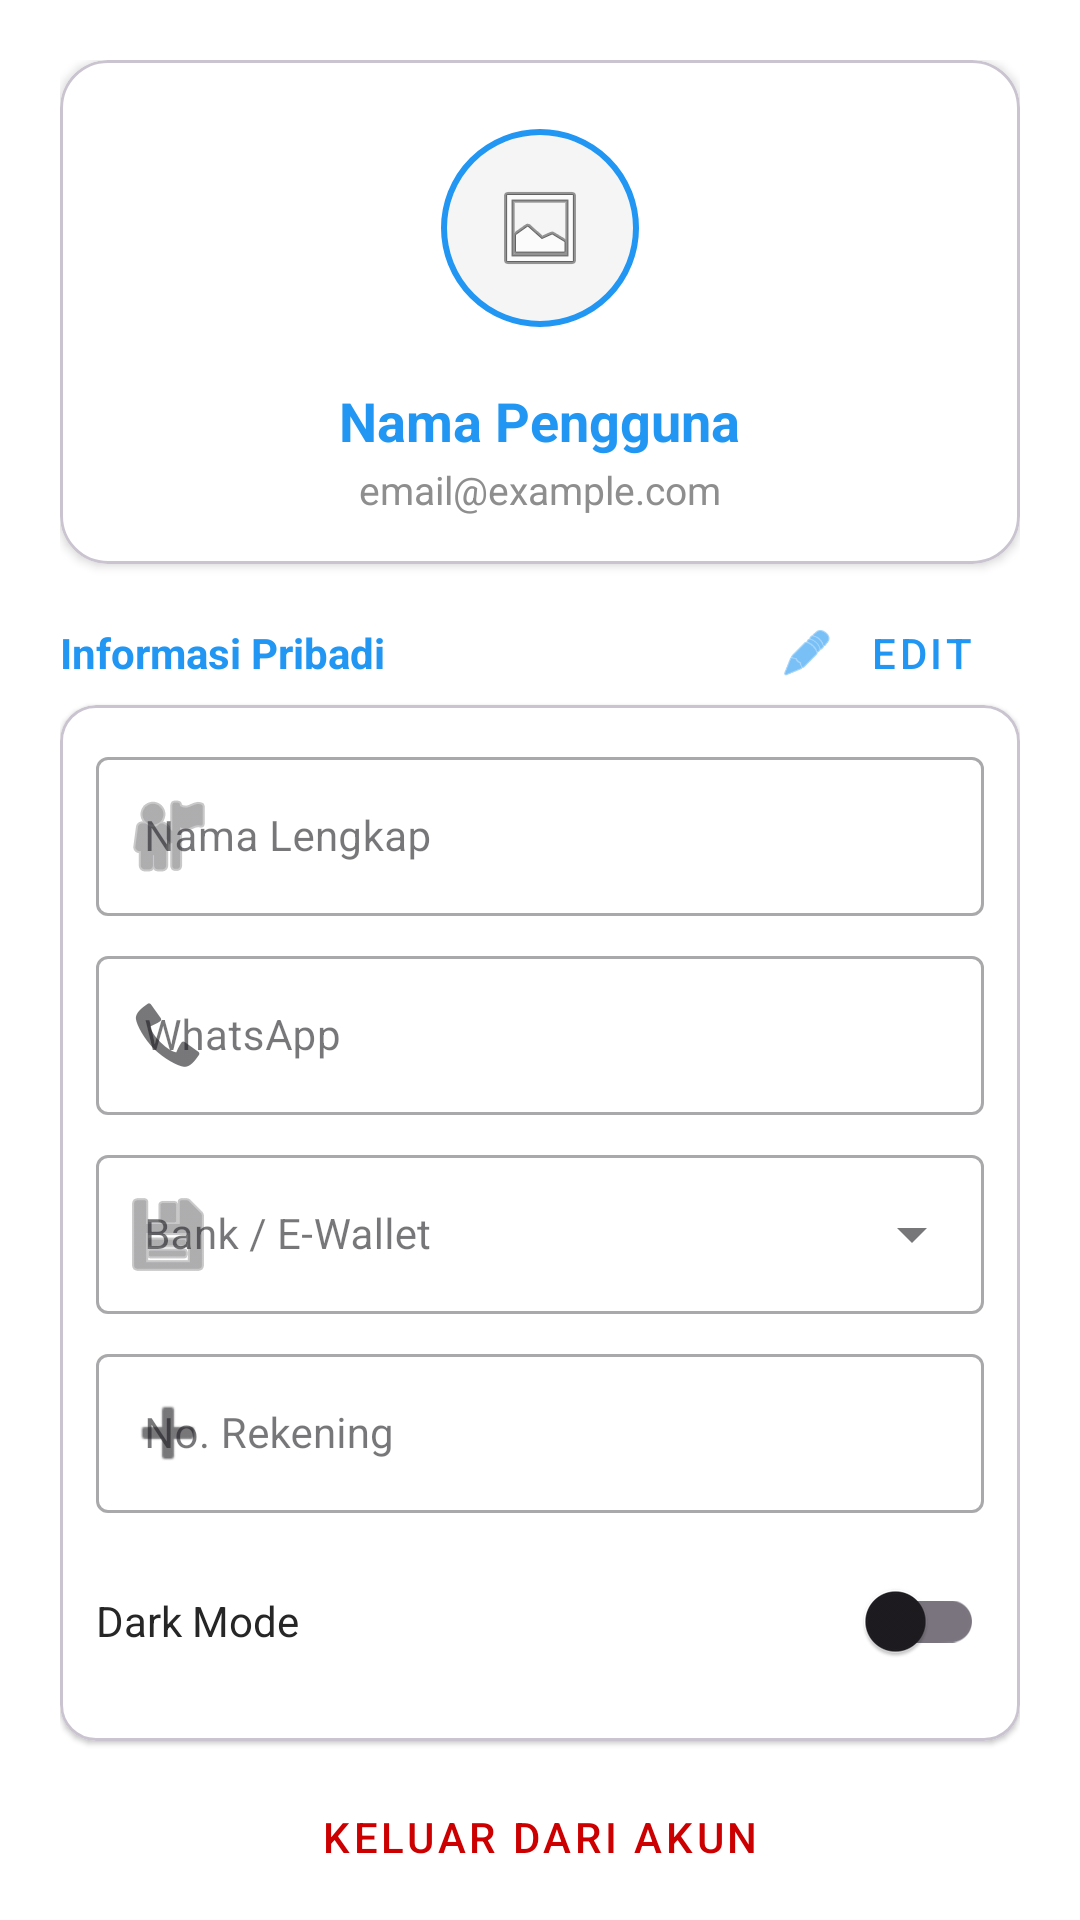

Icons on this 1080px x 1920px Android screen, each with the point to tap as [x,y]:
gallery: [540,228]
